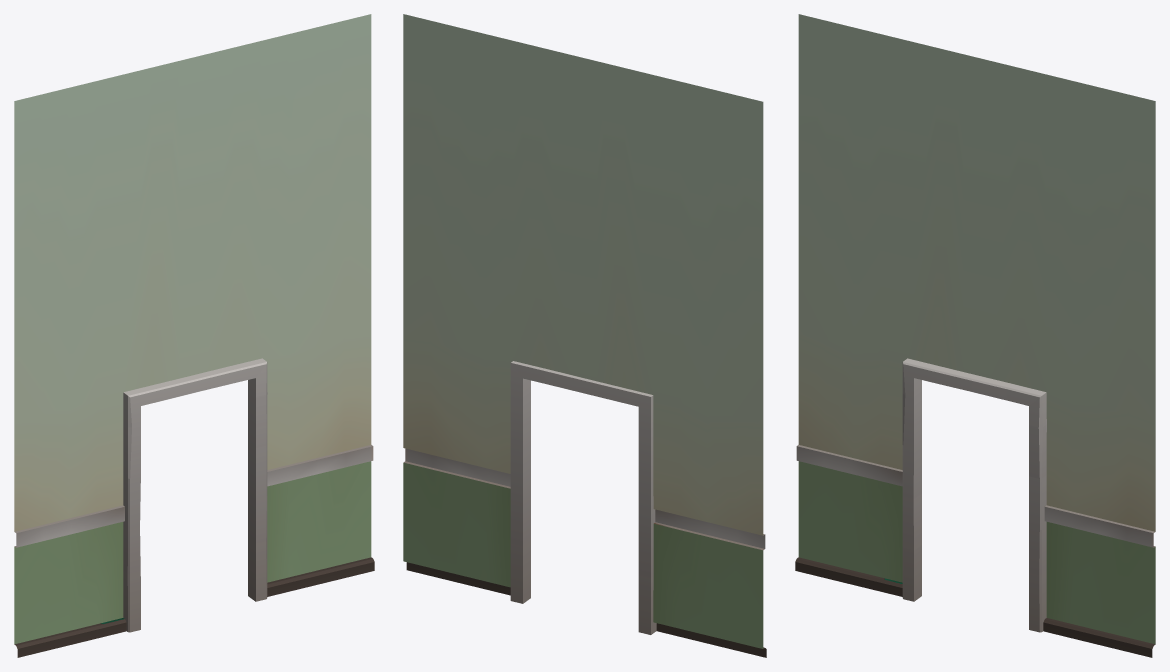
Rendered from DoorframeWall.fbx.
The picture shows the model from 3 angles, left to right: view 1: azimuth 30°, elevation 25°; view 2: azimuth 150°, elevation 25°; view 3: azimuth 330°, elevation 25°; orthographic projection.
Visible parts, largest first — view 1: DoorframeWall; view 2: DoorframeWall; view 3: DoorframeWall.
Boxes of the visible parts, x1=… form: DoorframeWall: x1=14, y1=14, x2=374, y2=657; DoorframeWall: x1=403, y1=14, x2=766, y2=657; DoorframeWall: x1=795, y1=14, x2=1155, y2=657.
Bounding box in the file's own units: 360 × 534 × 14.71.
